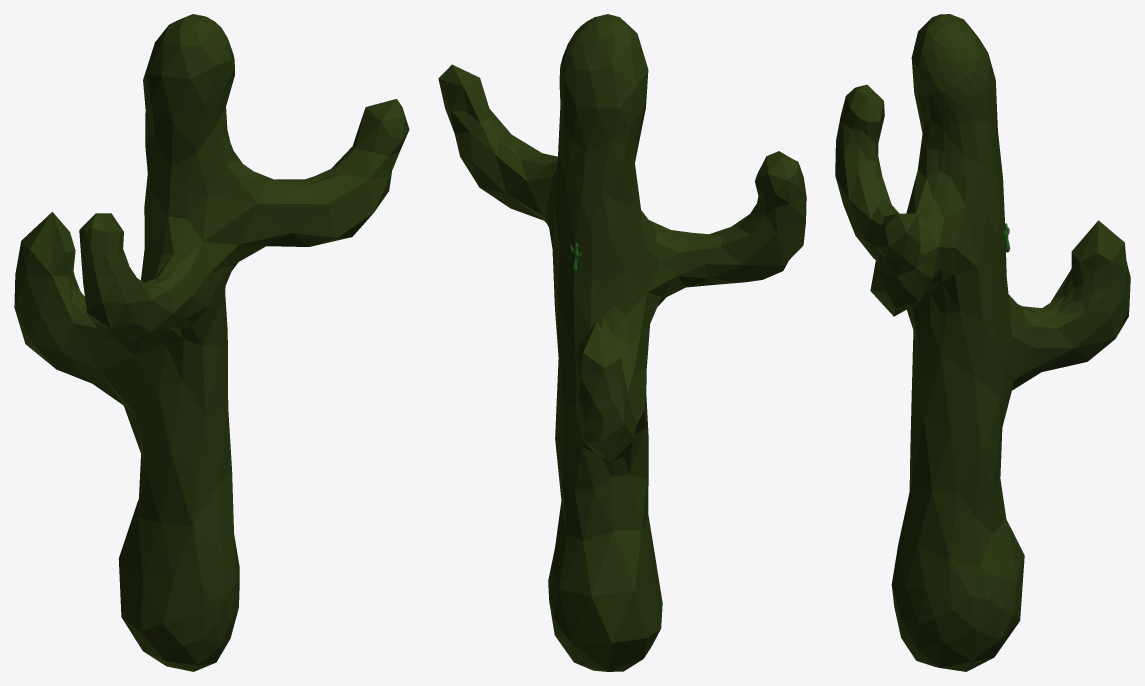
File: cactus3.FBX
The picture shows the model from 3 angles, left to right: view 1: azimuth 30°, elevation 25°; view 2: azimuth 150°, elevation 25°; view 3: azimuth 270°, elevation 25°; orthographic projection.
Visible parts, largest first — view 1: lsiguz,dakjsd; view 2: lsiguz,dakjsd; view 3: lsiguz,dakjsd.
Part boxes in pixels (left/top/right/bottom): lsiguz,dakjsd: left=14, top=14, right=409, bottom=671; lsiguz,dakjsd: left=438, top=14, right=806, bottom=671; lsiguz,dakjsd: left=835, top=14, right=1130, bottom=671.
Size of the model in its own units: 3.58 by 6.47 by 2.65.
2 materials, 2 textured.
